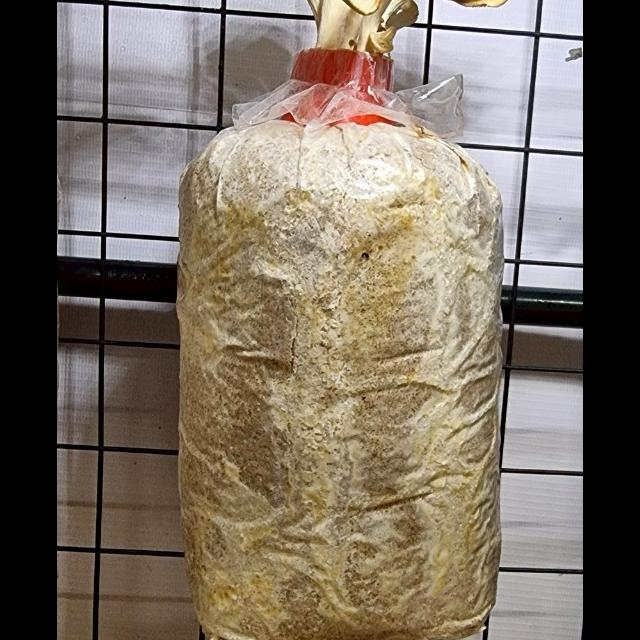abnormal: (343, 0, 533, 75), (351, 0, 553, 51), (163, 0, 331, 49), (303, 0, 421, 59)
